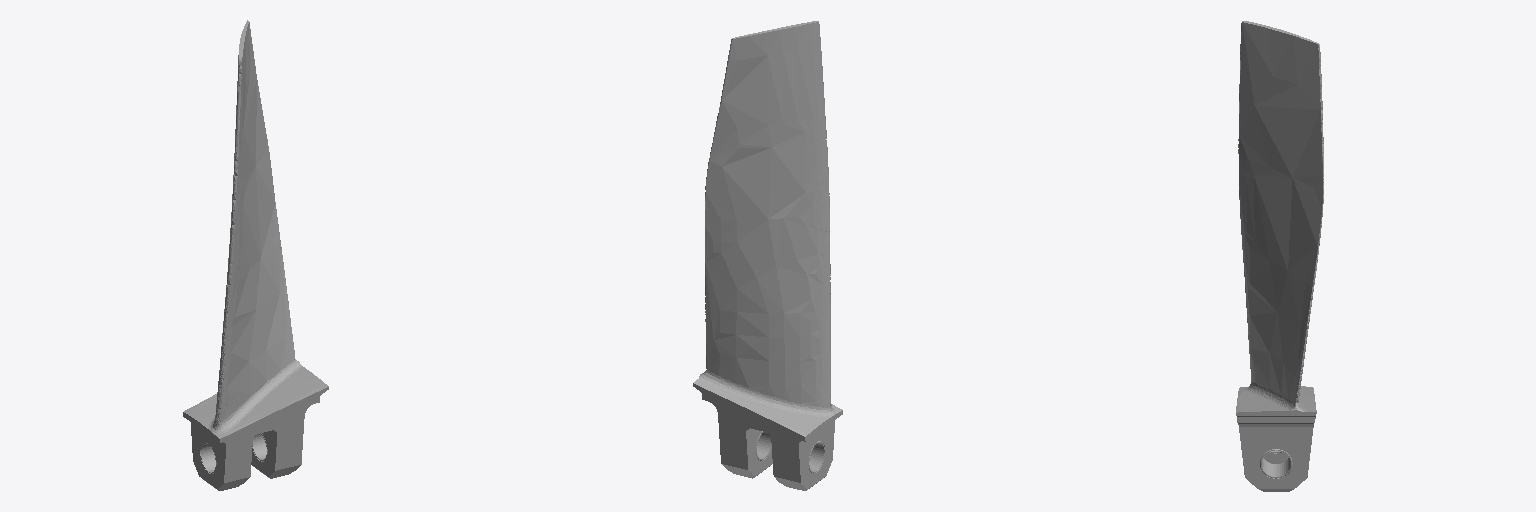
robot.urdf — myobj:
<robot name="myobj">
      <link name="tray_base_link">
        <inertial>
          <origin rpy="0 0 0" xyz="0 0 0"/>
          <mass value="0"/>
          <inertia ixx="0" ixy="0" ixz="0" iyy="0" iyz="0" izz="0"/>
        </inertial>
        <visual>
          <origin rpy="0 0 0" xyz="0 0 0"/>
          <geometry>
            <mesh filename="../mould/blade4.obj" scale="0.0016 0.0016 0.0016"/>
      </geometry>
          <material name="tray_material">
            <color rgba="0.7 0.7 0.7 1"/>
          </material>
        </visual>
      </link>
    </robot>

--- Facts derived from the render (not from the file) ---
Views: 3 orthographic renders of the robot side by side, from view 1: azimuth 30°, elevation 25°; view 2: azimuth 150°, elevation 25°; view 3: azimuth 270°, elevation 25°.
Model myobj with 1 links and 0 joints (none), rooted at tray_base_link, posed all joints at 0.
Links seen in each view (by area): view 1: tray_base_link; view 2: tray_base_link; view 3: tray_base_link.
Link boxes in pixels (box(x1,y1,x2,y2)): tray_base_link: box(183, 20, 328, 490); tray_base_link: box(693, 21, 842, 490); tray_base_link: box(1236, 21, 1323, 491).
Size in the robot's own frame: 0.1079 by 0.0752 by 0.4146 metres.
1 mesh visuals loaded from 1 distinct referenced files (1 OBJ).